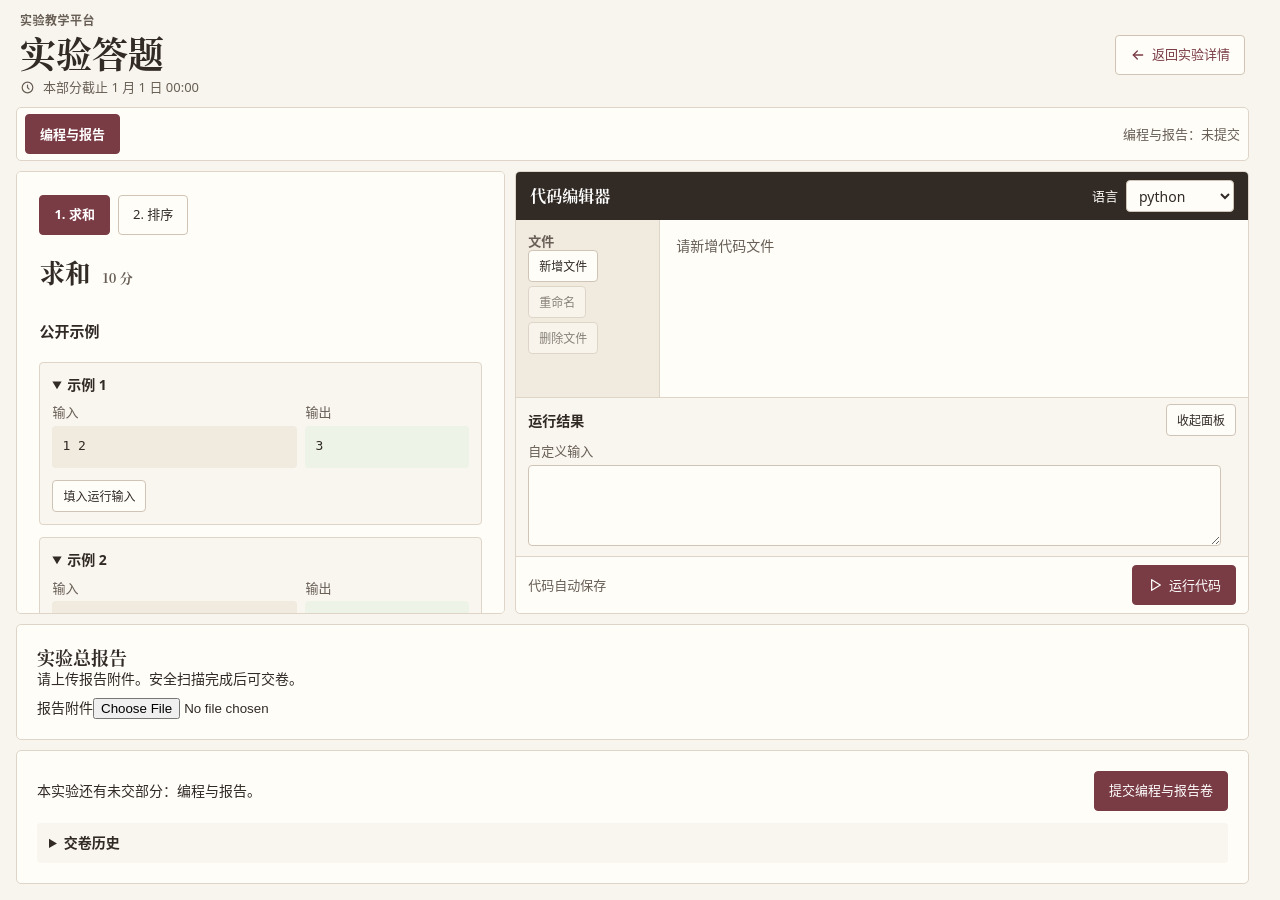
Test: switches programming questions through the list and shows attachment-only reports and samples
The width and height of the screenshot is (1280, 900).
Expected: the navigation bar named "编程题列表" is shown, [39,194,188,234]
Expected: the file field labelled "报告附件" is shown, [93,698,346,719]
Click the button "2. 排序": [153, 214] box [118,194,188,234]
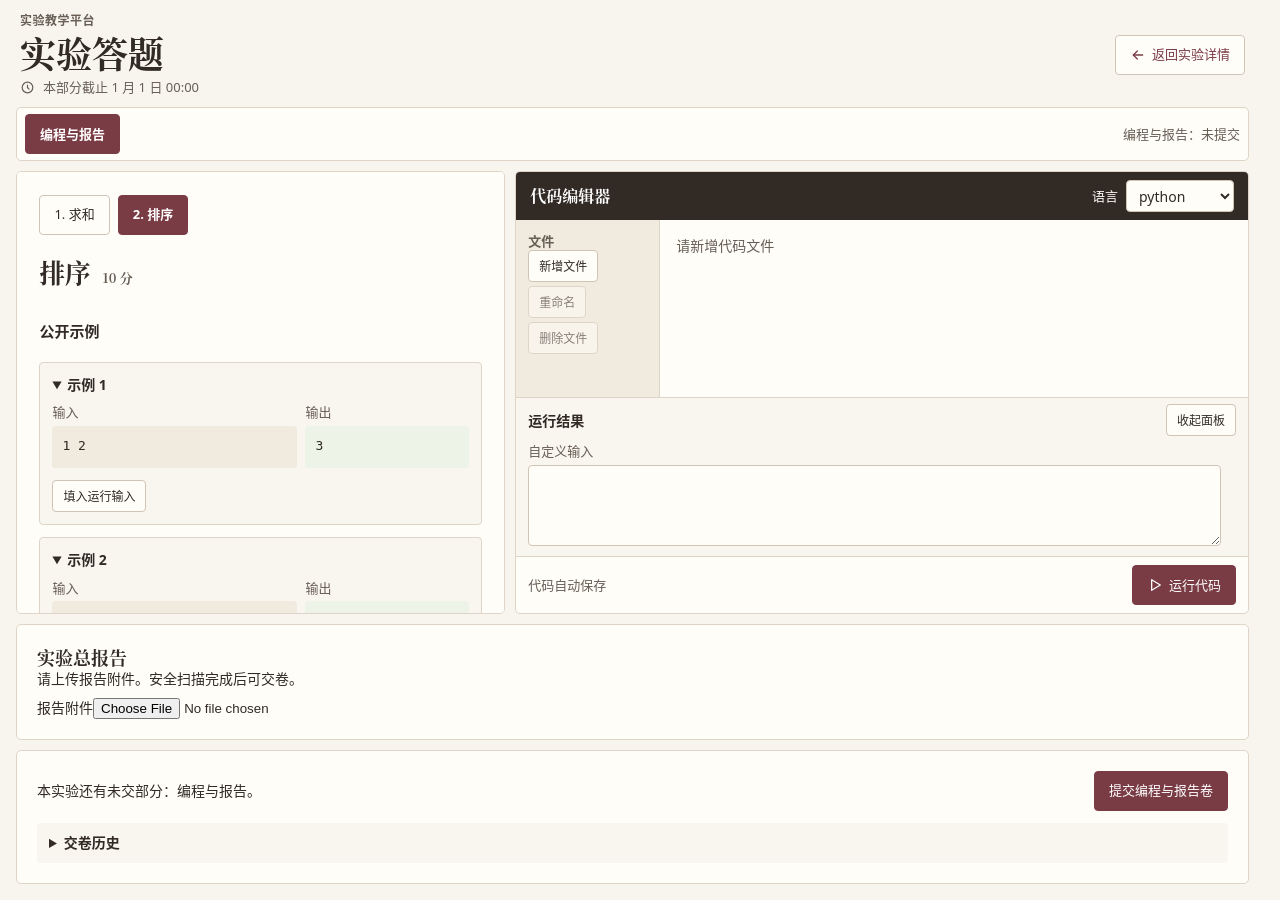
Expected: the button "2. 排序" is pressed, [118,194,188,234]
